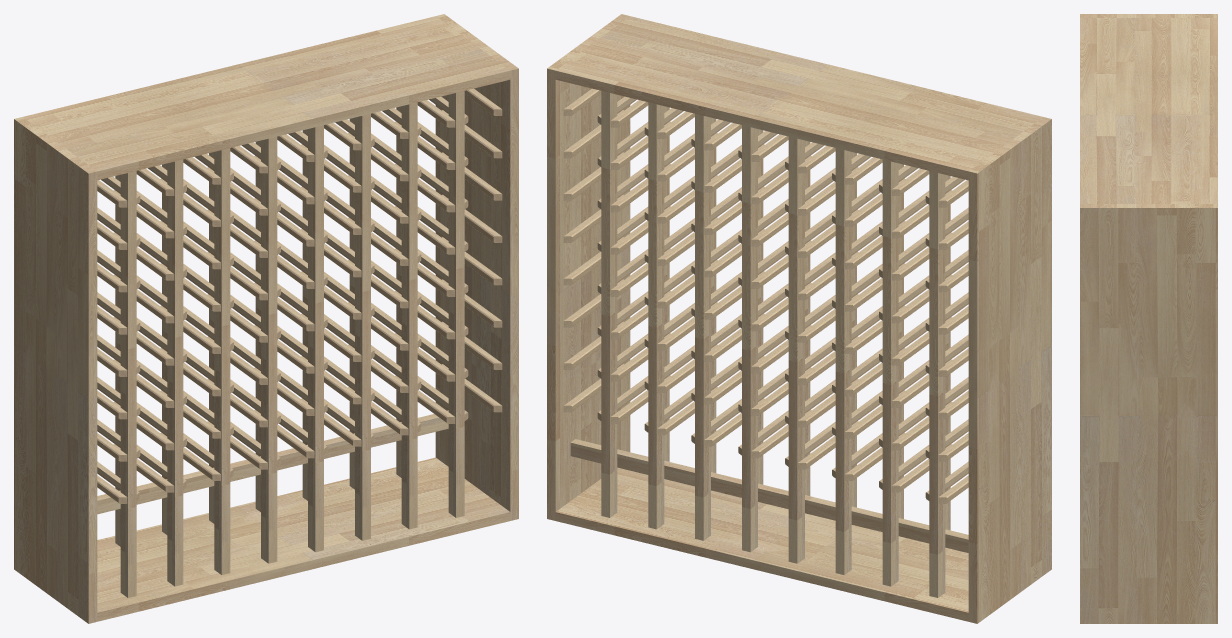
The picture shows the model from 3 angles, left to right: view 1: azimuth 30°, elevation 25°; view 2: azimuth 150°, elevation 25°; view 3: azimuth 270°, elevation 25°; orthographic projection. The views are drawn at different scales.
Parts seen in each view (by area): view 1: Korpus bund_top.016; view 2: Korpus bund_top.016; view 3: Korpus bund_top.016.
Boxes of the visible parts, x1=… form: Korpus bund_top.016: x1=14, y1=14, x2=518, y2=623; Korpus bund_top.016: x1=547, y1=14, x2=1051, y2=623; Korpus bund_top.016: x1=1080, y1=14, x2=1217, y2=623.
Size of the model in its own units: 1 by 1 by 0.3.
Materials: 1 (1 with a texture image).
